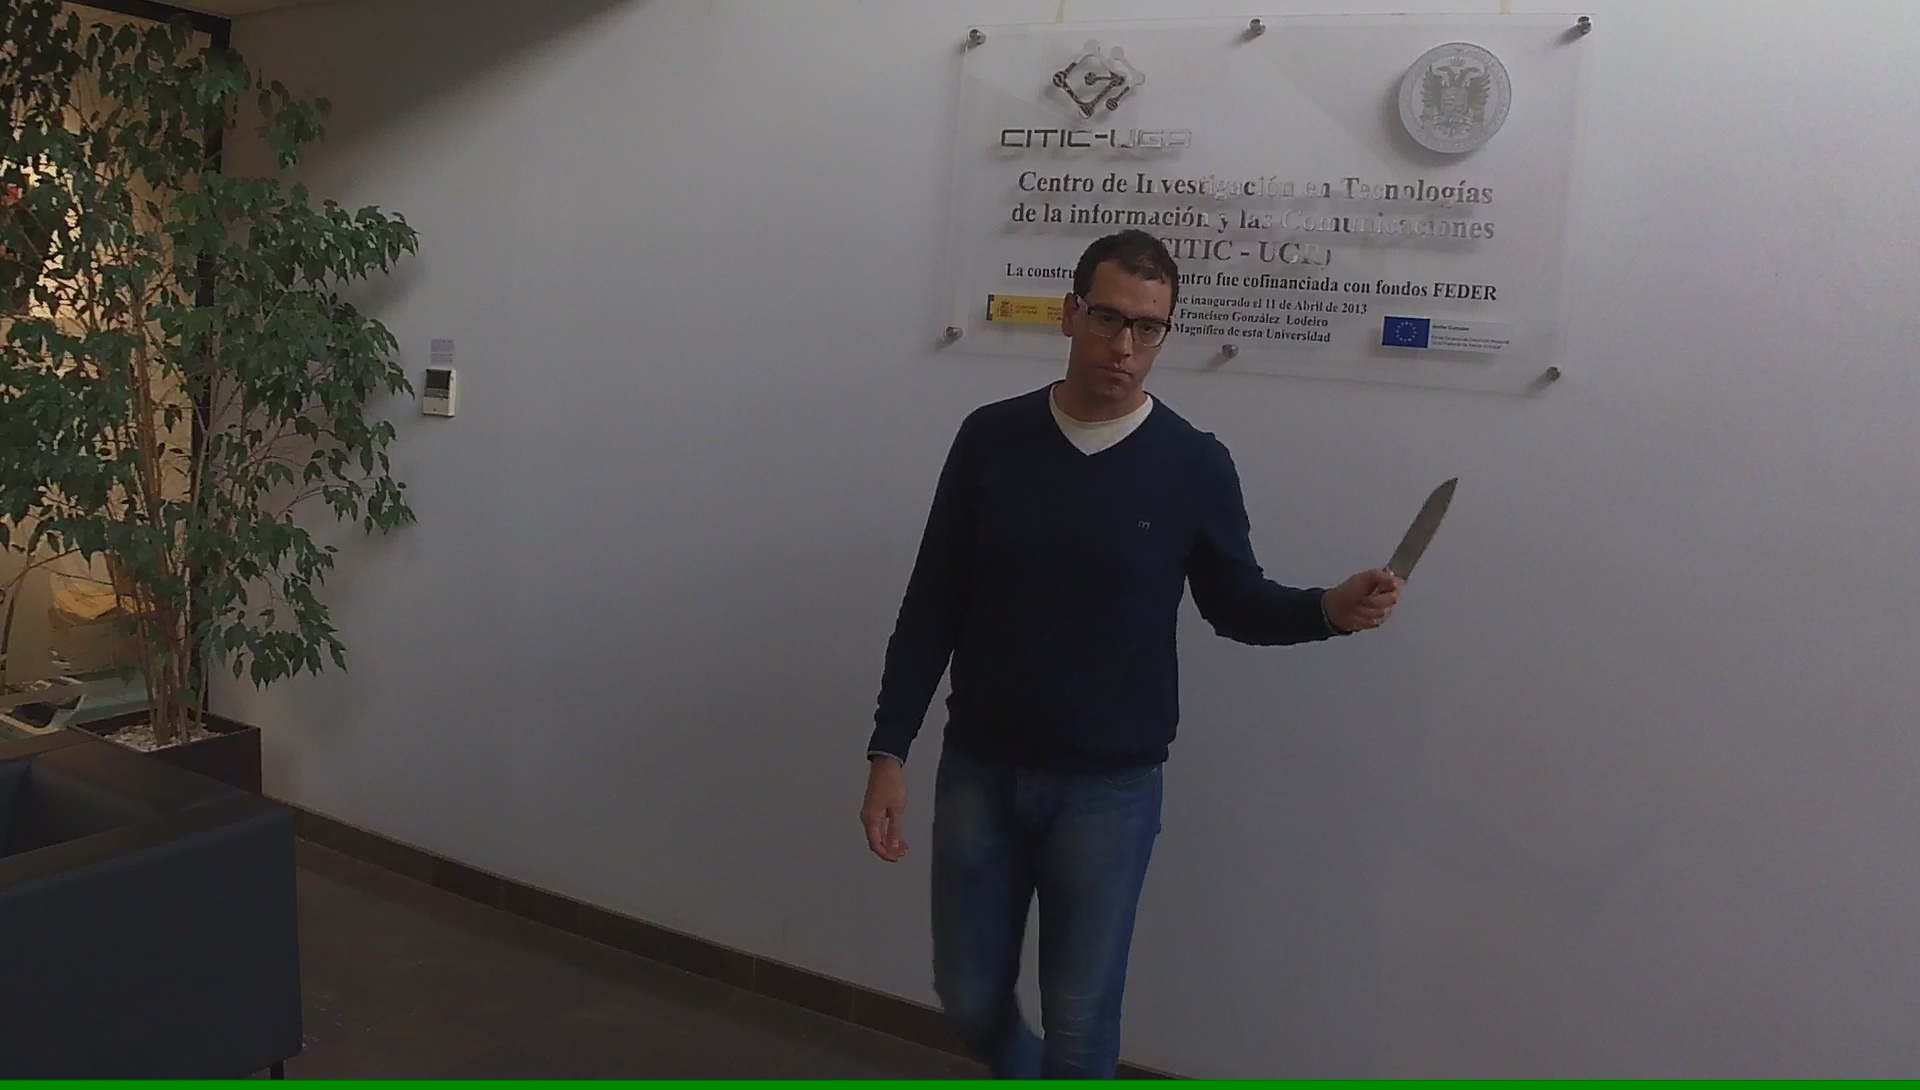knife: (1346, 467, 1468, 643)
